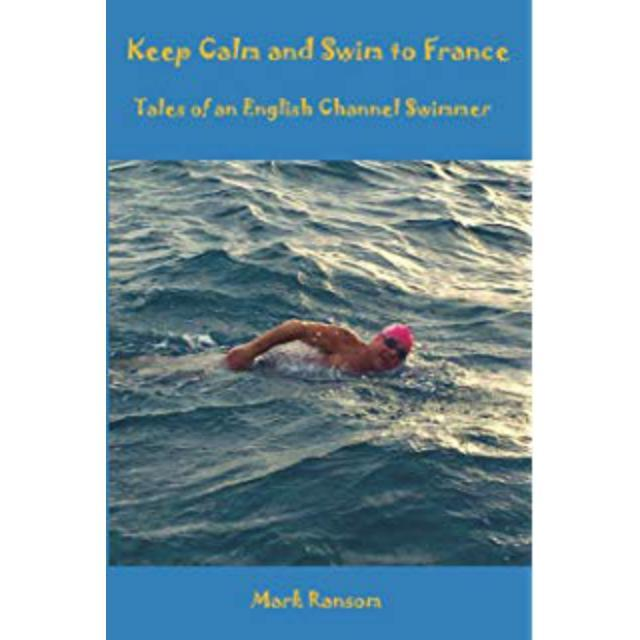human: (230, 314, 412, 392)
